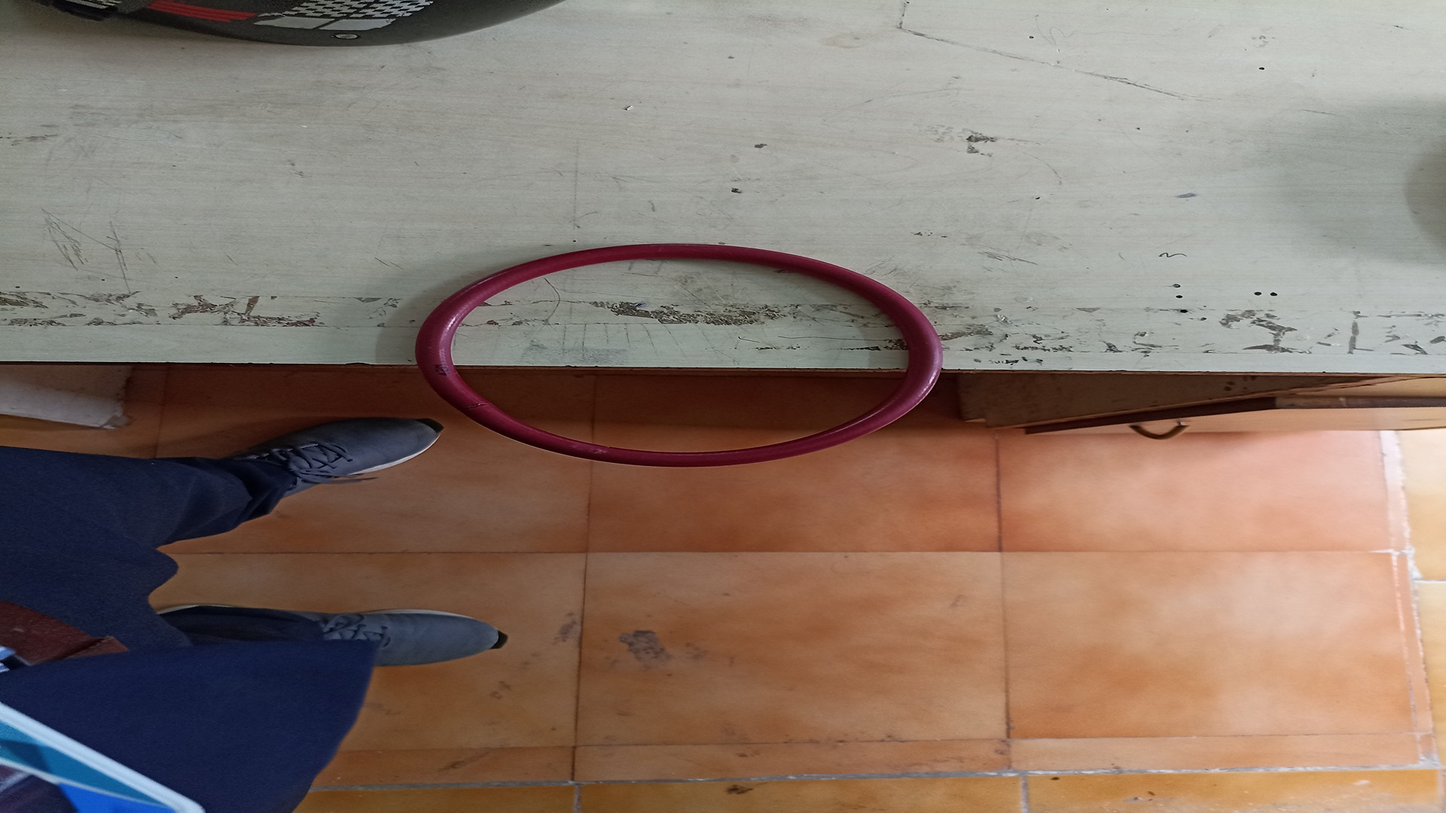Red ring: (412, 245, 943, 471)
